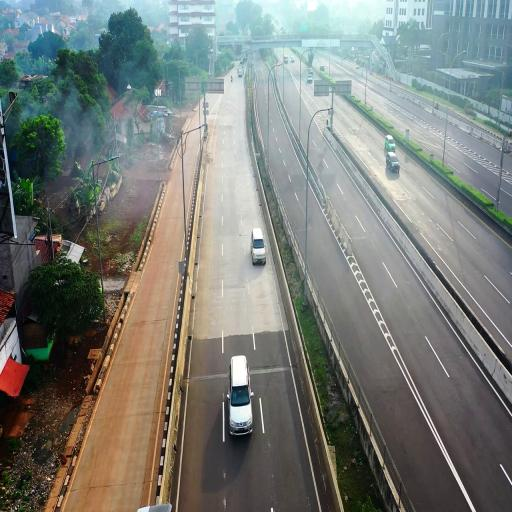vehicle: (228, 354, 253, 438), (384, 138, 400, 178), (250, 228, 266, 265), (385, 150, 400, 179)
